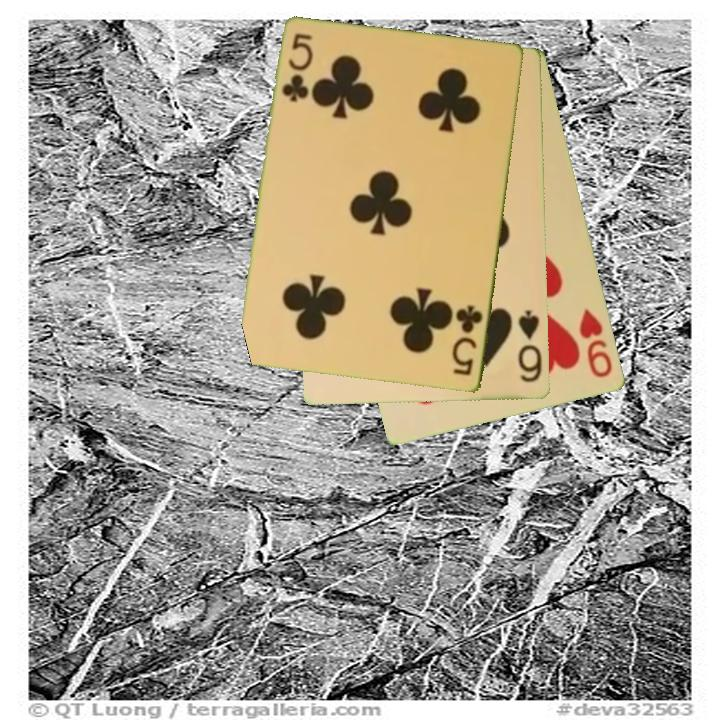5c: (449, 302, 486, 379), (278, 30, 315, 106)
6s: (515, 307, 546, 386)
9h: (576, 306, 616, 381)
